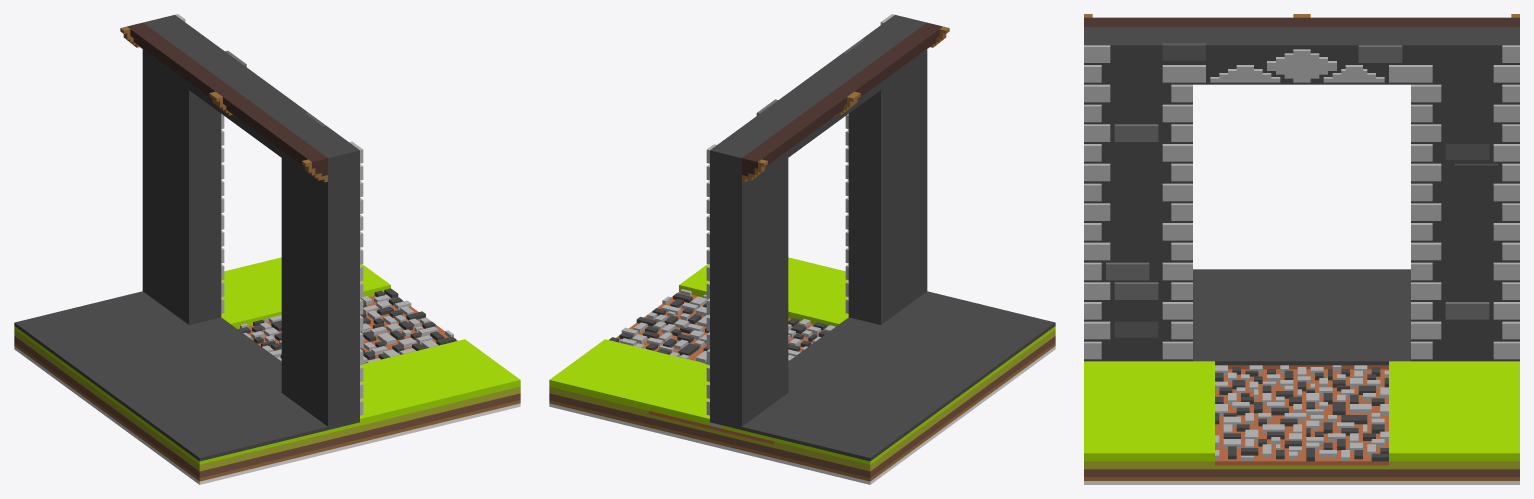
The model's file is House-5-House Door Frame.obj.
3 renders of one model, left to right at view 1: azimuth 30°, elevation 25°; view 2: azimuth 150°, elevation 25°; view 3: azimuth 270°, elevation 25°, orthographic. The views are drawn at different scales.
Visible parts, largest first — view 1: House Door Frame; view 2: House Door Frame; view 3: House Door Frame.
Boxes of the visible parts, x1,y1,x2,y2 form: House Door Frame: (14, 14, 520, 484); House Door Frame: (549, 14, 1055, 484); House Door Frame: (1084, 14, 1519, 484).
Bounding box in the file's own units: 10 × 8.8 × 10.
Materials: 1 (1 with a texture image).
